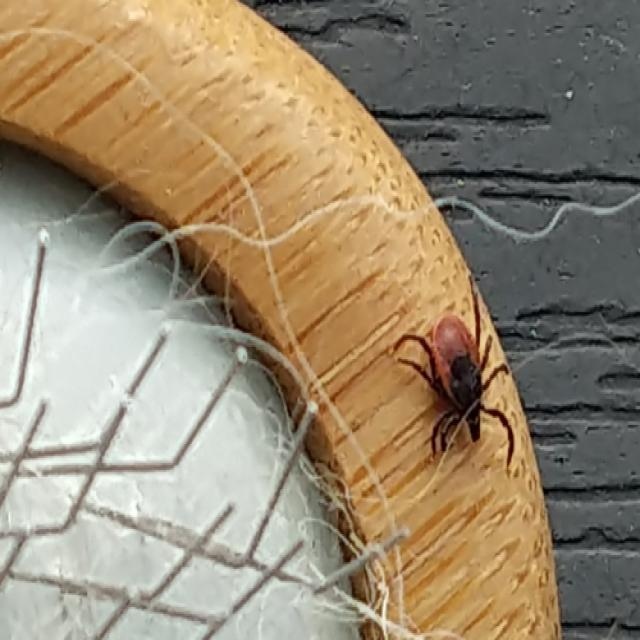Ixodes Ricinus-F: (393, 271, 515, 470)
